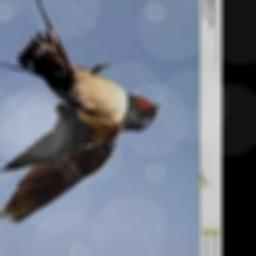Swallow: (0, 1, 162, 223)
